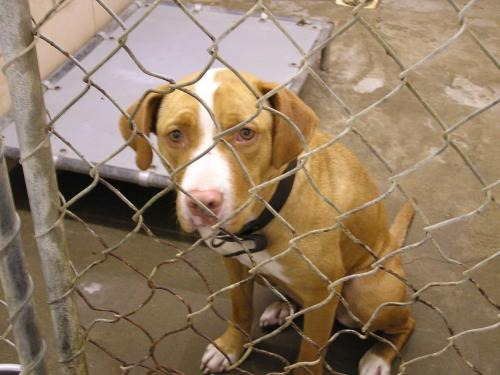dog: (113, 19, 372, 360), (120, 60, 320, 256)
